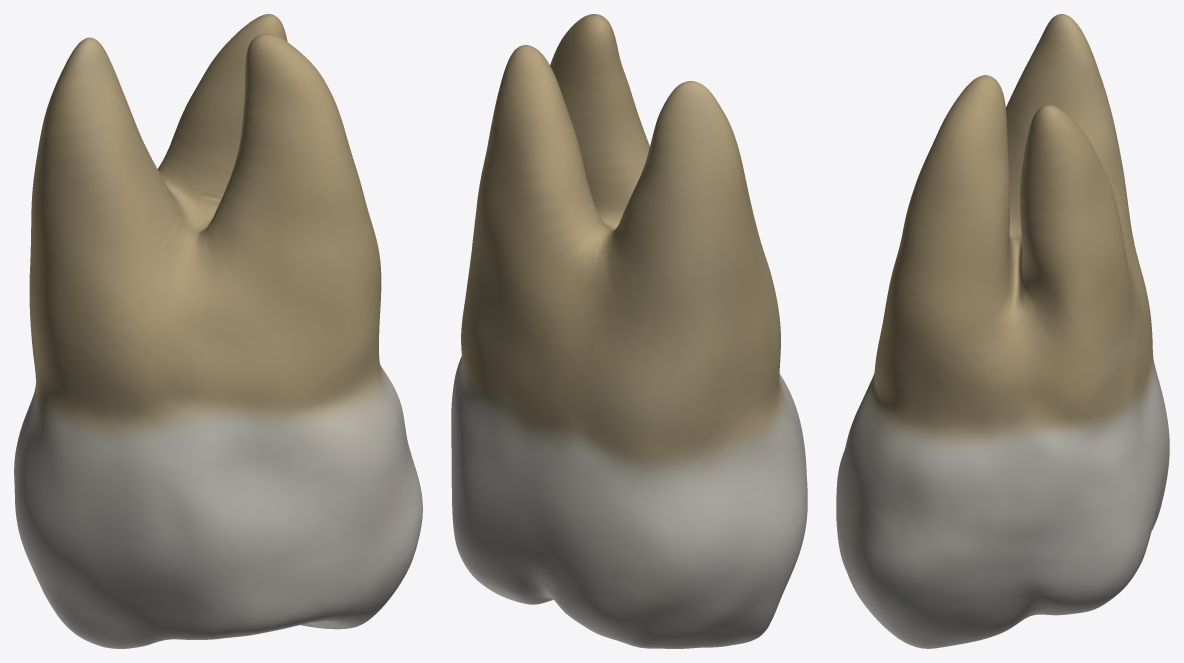
Rendered from maxillary_third_molar.glb.
3 views of the same model, side by side, from view 1: azimuth 30°, elevation 25°; view 2: azimuth 150°, elevation 25°; view 3: azimuth 270°, elevation 25° (orthographic). The views are drawn at different scales.
Visible parts, largest first — view 1: Object_2; view 2: Object_2; view 3: Object_2.
Boxes of the visible parts, x1=… form: Object_2: x1=14, y1=14, x2=422, y2=648; Object_2: x1=451, y1=14, x2=807, y2=648; Object_2: x1=836, y1=14, x2=1169, y2=648.
Size of the model in its own units: 0.9412 by 1.55 by 0.848.
1 material, 1 textured.
